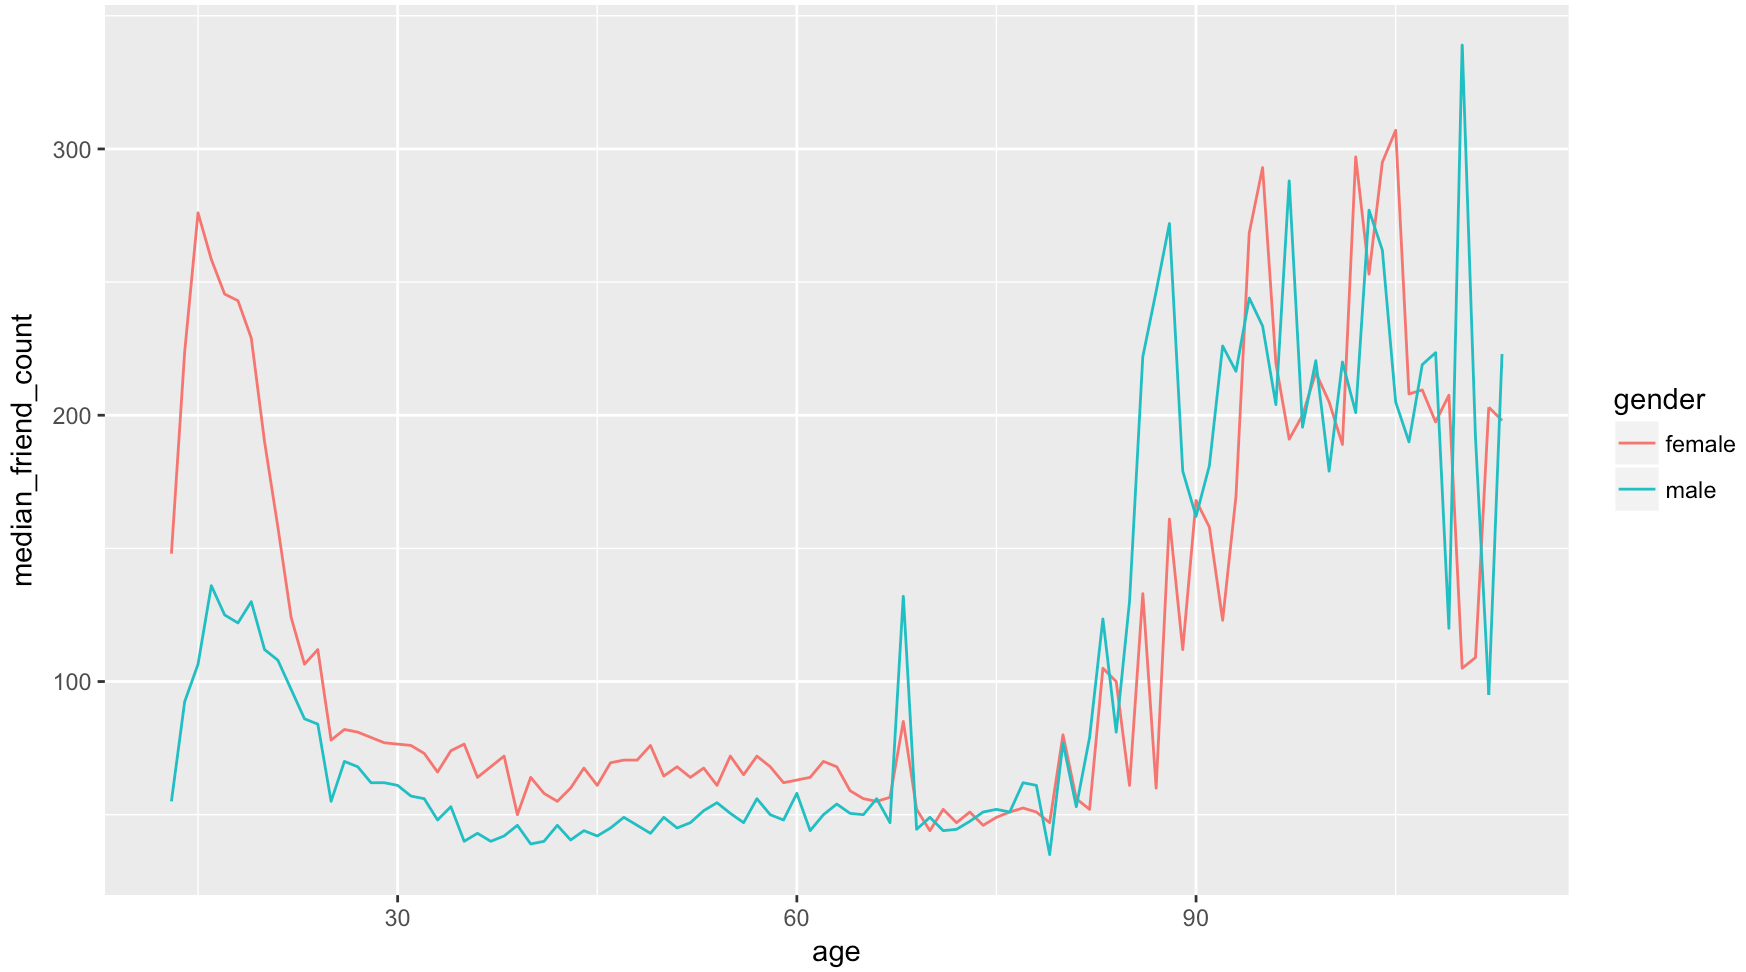

The dashboard page shown, as its layout file describes it:
{"tool":"tableau","page":{"name":"Dashboard 2","canvas":[1000,1000],"units":"permille","ordinal":1},"visuals":[{"type":"worksheet","title":"Sheet 1","mark":"Line","rows":["Rank","Rank"],"cols":["Year"],"box":[0,0,993.9,1000]}]}

Visuals, with their boxes on the dashboard's canvas, which has no fixed pixel size, in thousandths of its width and height (x1, y1, x2, y2). These are canvas units, not pixel positions in the 1746x972 screenshot, which may show the page scaled, cropped or inside an application window:
"Sheet 1" worksheet (Line marks): (x1=0, y1=0, x2=994, y2=1000)
